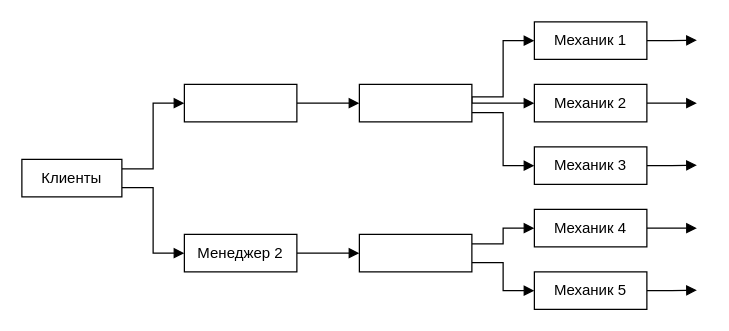
The diagram is 729 pixels wide and 331 high, and some of its shapes have lost their labels. Each missing label, with the centre of its shape:
Менеджер 1: (x=240, y=102)
Очередь 1: (x=415, y=102)
Очередь 2: (x=415, y=252)
